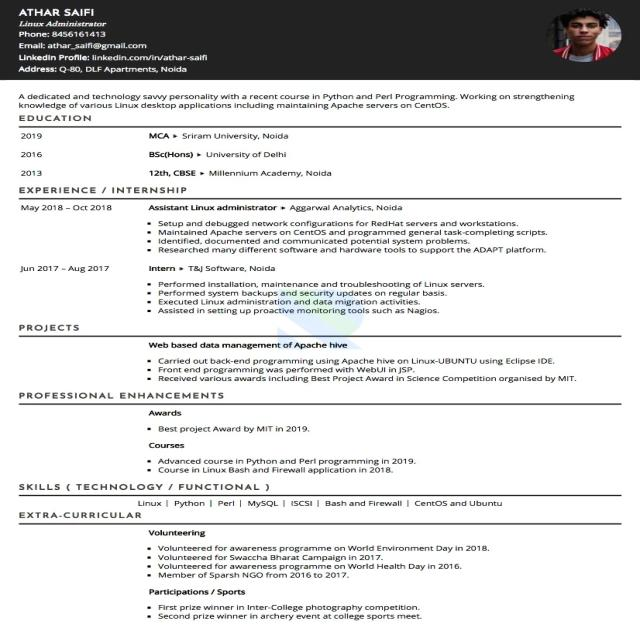contact: (16, 29, 217, 78)
education: (18, 391, 422, 476), (12, 114, 360, 182)
experience: (15, 185, 560, 324)
header: (17, 5, 115, 27)
projects: (15, 322, 587, 387)
skills: (16, 482, 526, 507)
summary: (14, 90, 601, 114)
